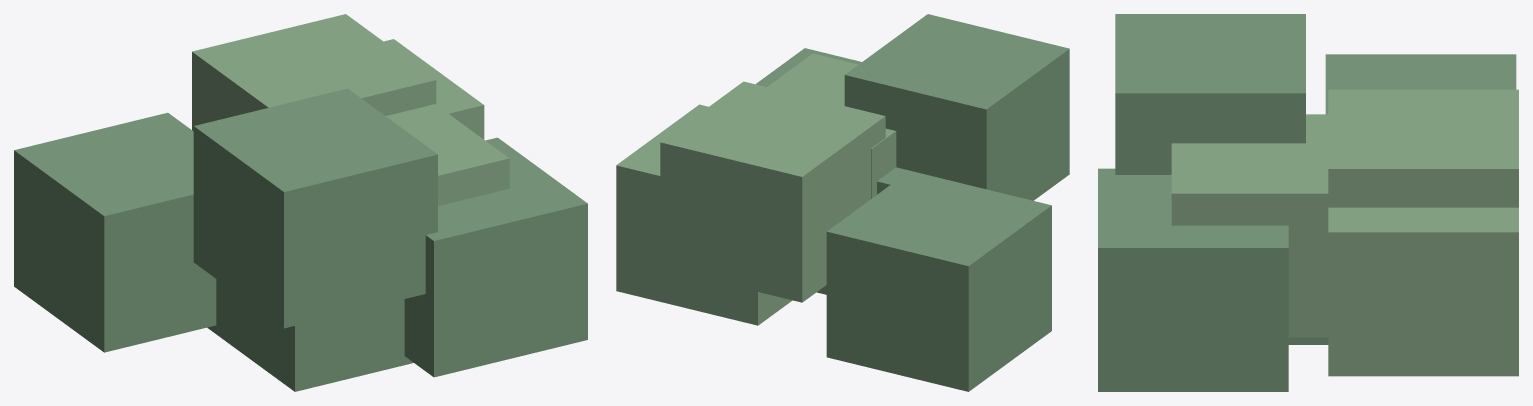
The model's file is arbusto.glb.
The picture shows the model from 3 angles, left to right: view 1: azimuth 30°, elevation 25°; view 2: azimuth 150°, elevation 25°; view 3: azimuth 270°, elevation 25°; orthographic projection. The views are drawn at different scales.
Parts seen in each view (by area): view 1: part_004, part_005, part_002, part_003, part_001, part_000, part_006; view 2: part_005, part_003, part_004, part_006, part_000, part_002, part_001; view 3: part_002, part_006, part_004, part_003, part_000, part_005.
Part boxes in pixels (x1=…): part_004: x1=193, y1=88, x2=437, y2=328; part_005: x1=14, y1=112, x2=216, y2=352; part_002: x1=404, y1=137, x2=587, y2=377; part_003: x1=192, y1=14, x2=436, y2=130; part_001: x1=207, y1=279, x2=413, y2=391; part_000: x1=386, y1=104, x2=509, y2=205; part_006: x1=384, y1=39, x2=484, y2=139; part_005: x1=826, y1=171, x2=1051, y2=391; part_003: x1=660, y1=81, x2=885, y2=302; part_004: x1=844, y1=14, x2=1069, y2=200; part_006: x1=616, y1=104, x2=792, y2=325; part_000: x1=767, y1=53, x2=896, y2=198; part_002: x1=756, y1=48, x2=861, y2=86; part_001: x1=816, y1=167, x2=909, y2=294; part_002: x1=1098, y1=168, x2=1288, y2=391; part_006: x1=1328, y1=207, x2=1518, y2=376; part_004: x1=1115, y1=14, x2=1305, y2=174; part_003: x1=1328, y1=89, x2=1518, y2=207; part_000: x1=1171, y1=114, x2=1328, y2=337; part_005: x1=1325, y1=54, x2=1516, y2=114.
Bounding box in the file's own units: 1.61 × 0.8992 × 1.46.
